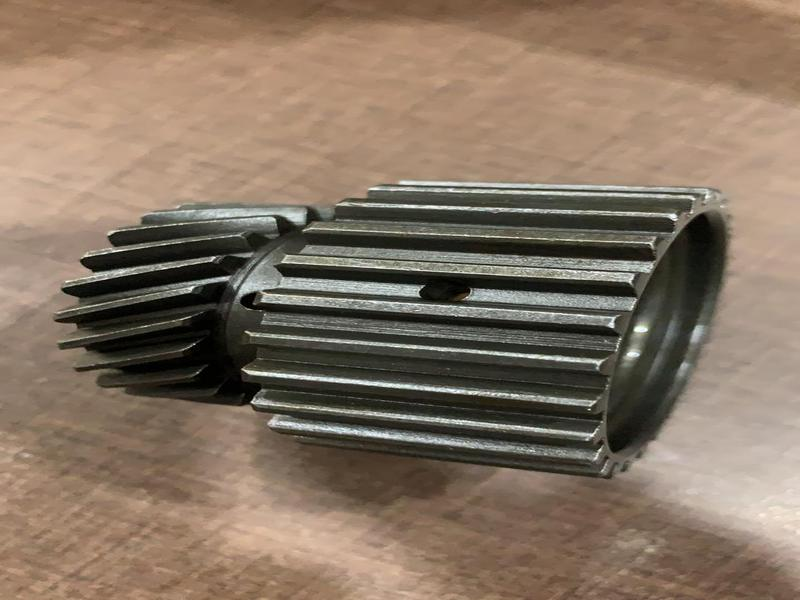engine gear alfa: (15, 113, 769, 535)
